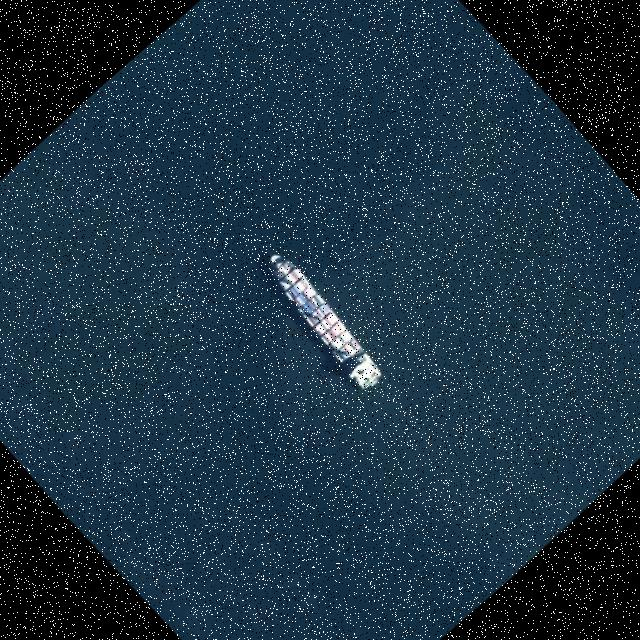ship: (298, 252, 350, 395)
